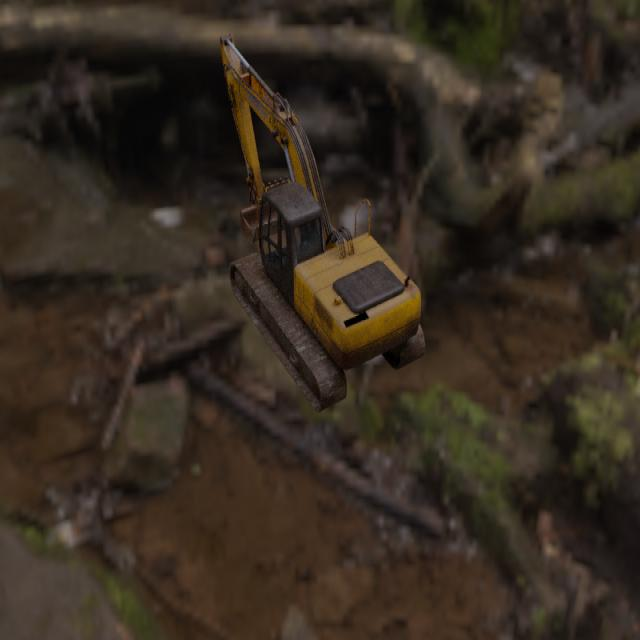excavator: (219, 32, 425, 412)
